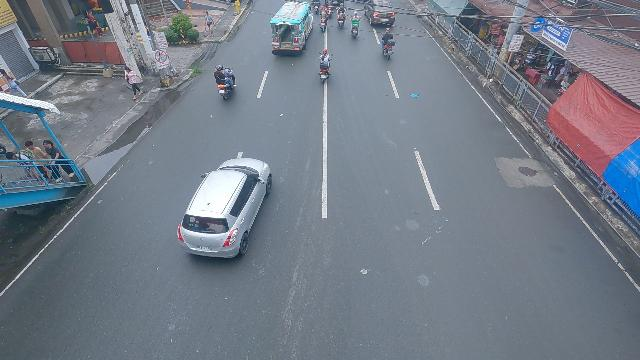car: (176, 157, 273, 259), (364, 0, 397, 27)
jeepney: (269, 0, 313, 56)
motorcycle: (214, 66, 237, 102), (380, 29, 396, 61), (317, 50, 332, 84), (318, 8, 330, 34), (337, 2, 347, 31), (349, 16, 360, 38), (313, 0, 321, 15), (327, 1, 333, 19)
